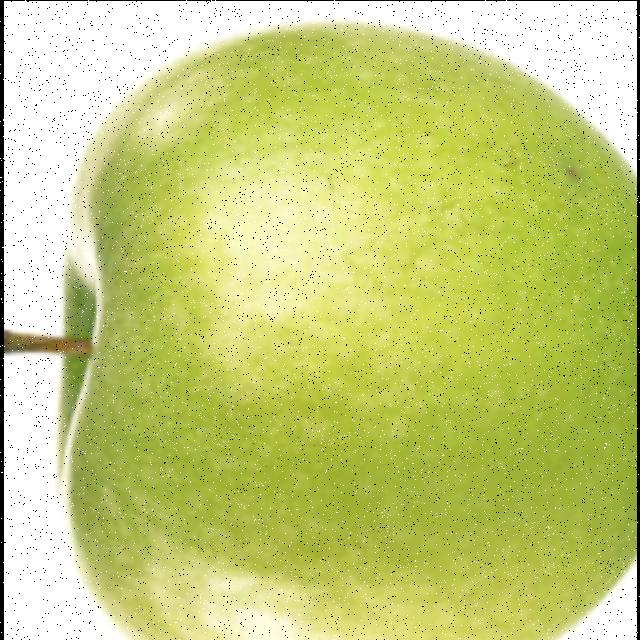Apel Segar: (59, 25, 636, 640)
